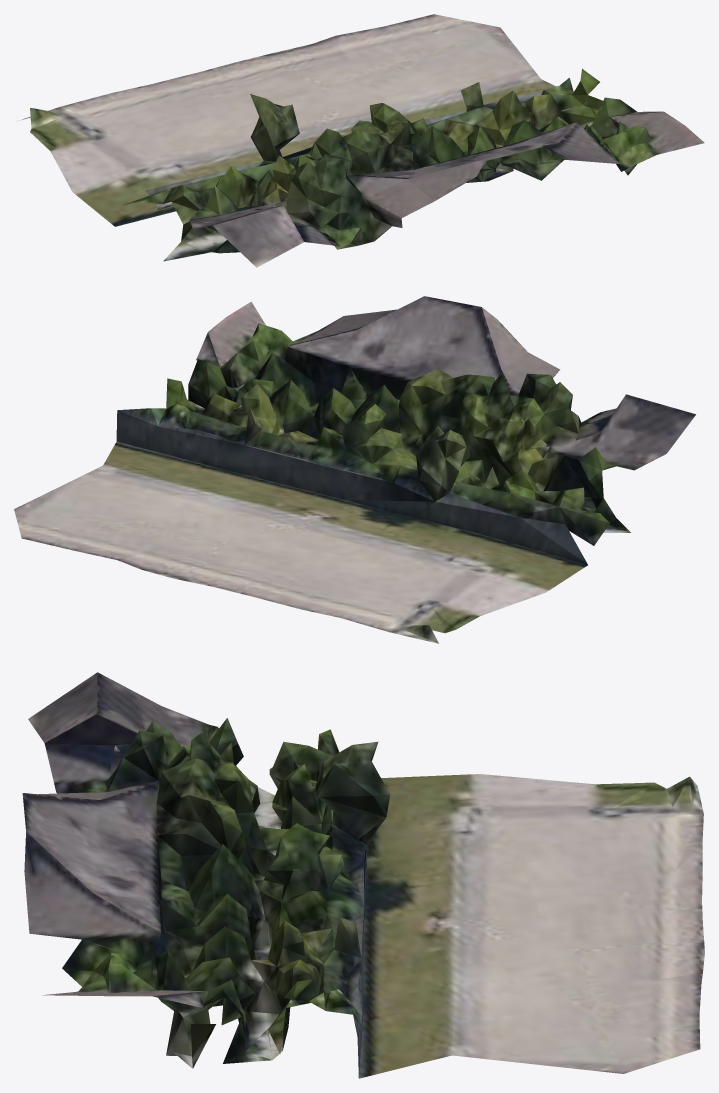
The model's file is Tile_+003_+007_L17_00.glb.
3 views of the same model, one above another, from view 1: azimuth 30°, elevation 25°; view 2: azimuth 150°, elevation 25°; view 3: azimuth 270°, elevation 25° (orthographic). The views are drawn at different scales.
Size of the model in its own units: 61.26 by 13.11 by 57.03.
Materials: 1 (1 with a texture image).
